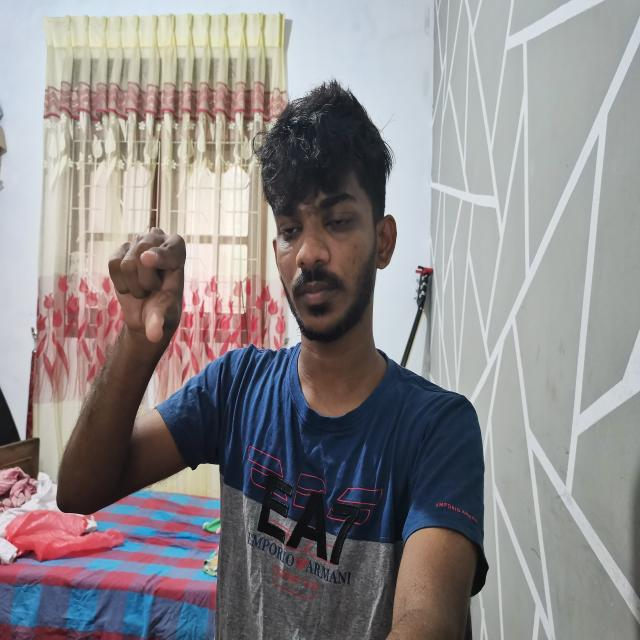No: (104, 222, 192, 352)
